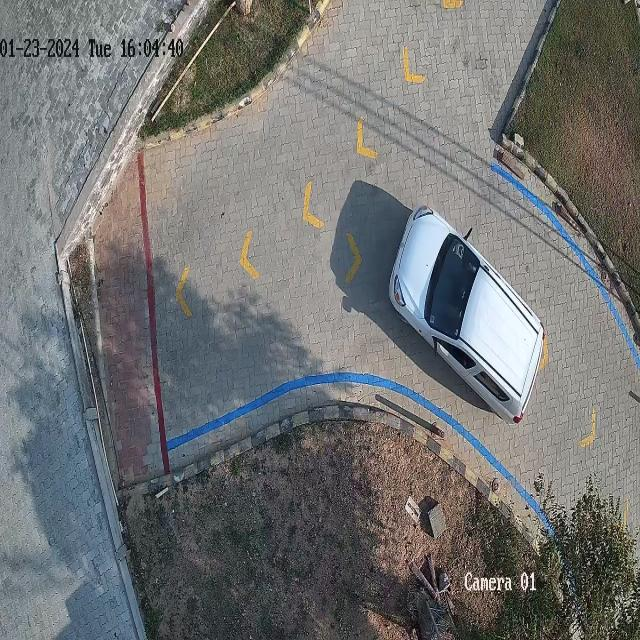car: (386, 203, 547, 427)
